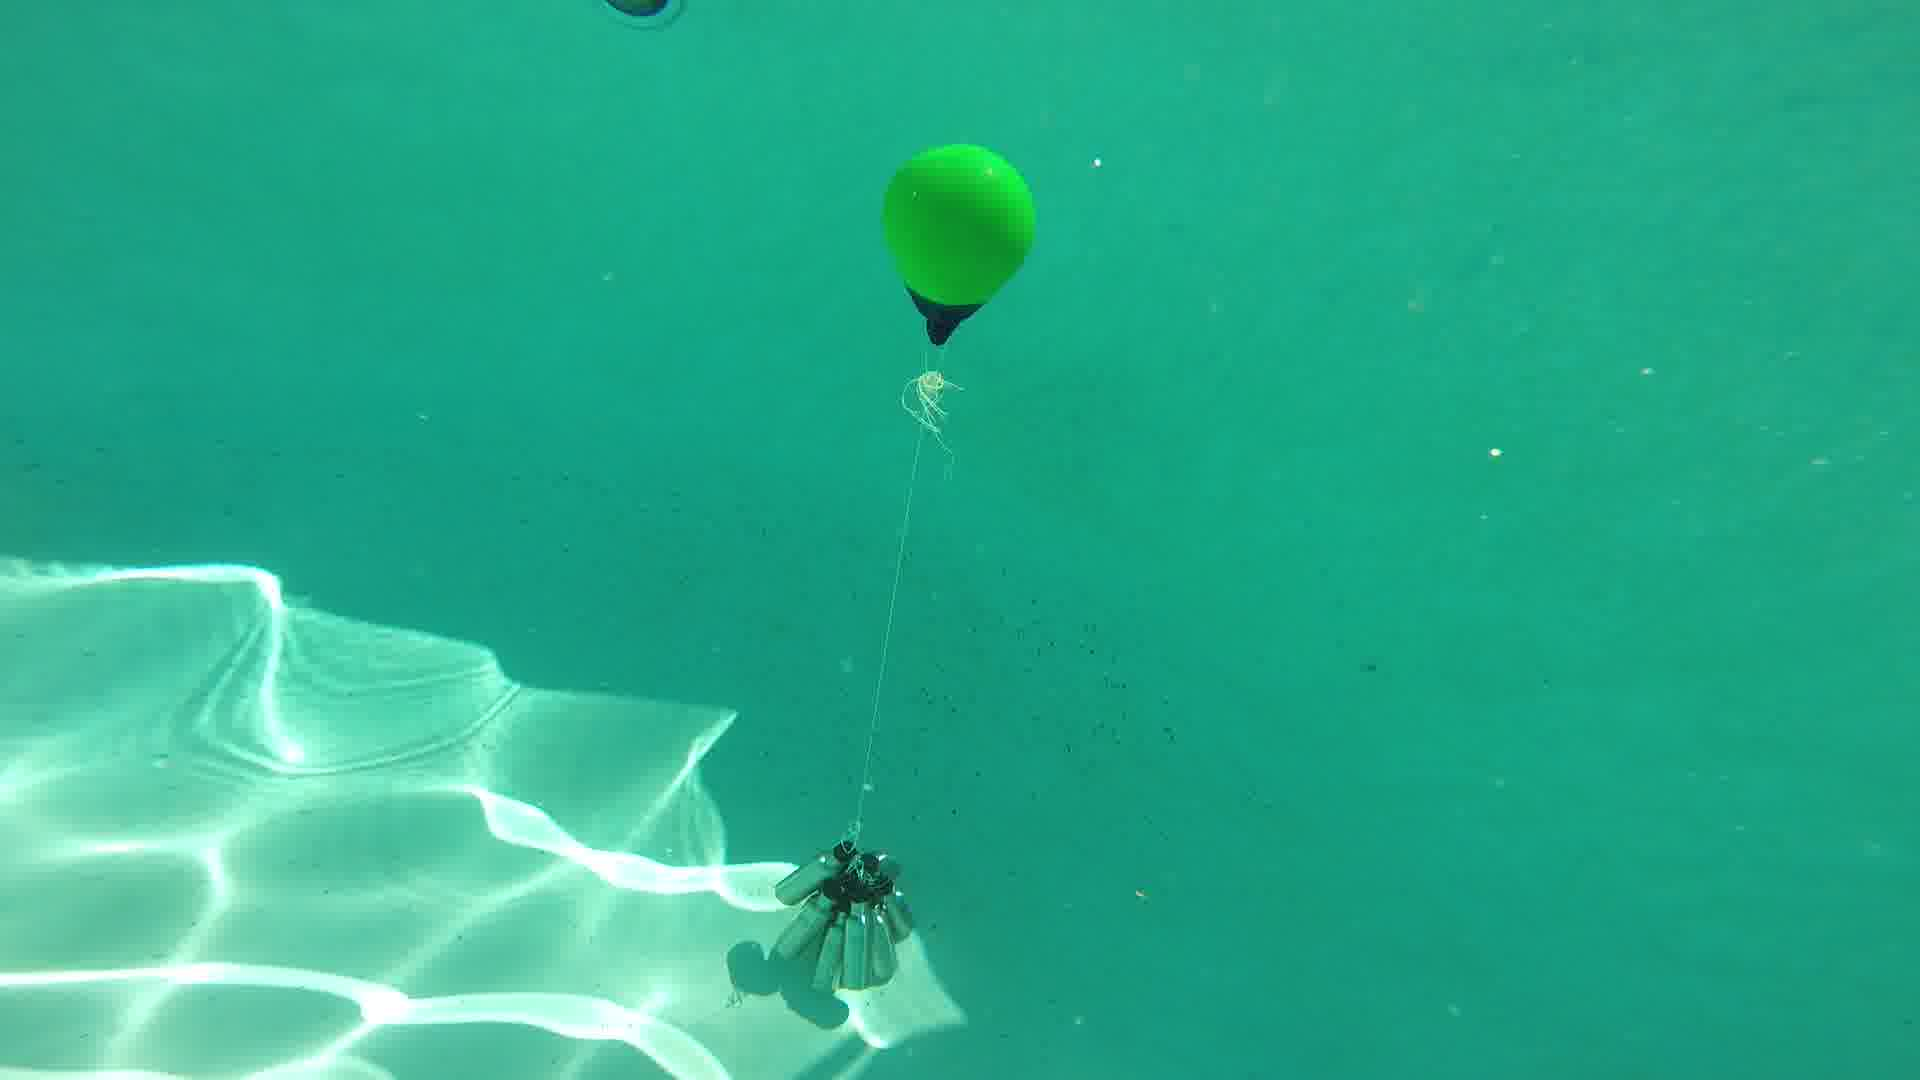yellow_buoy: (881, 142, 1036, 348)
